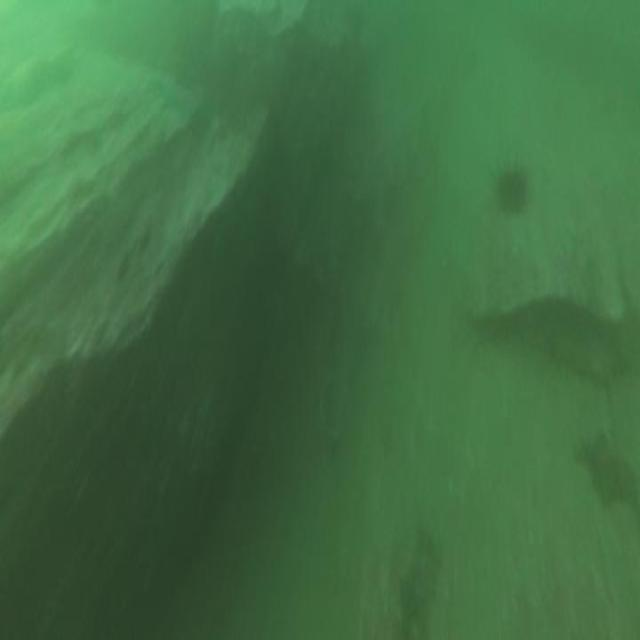echinus: (490, 160, 530, 221)
starfish: (574, 419, 638, 515)
